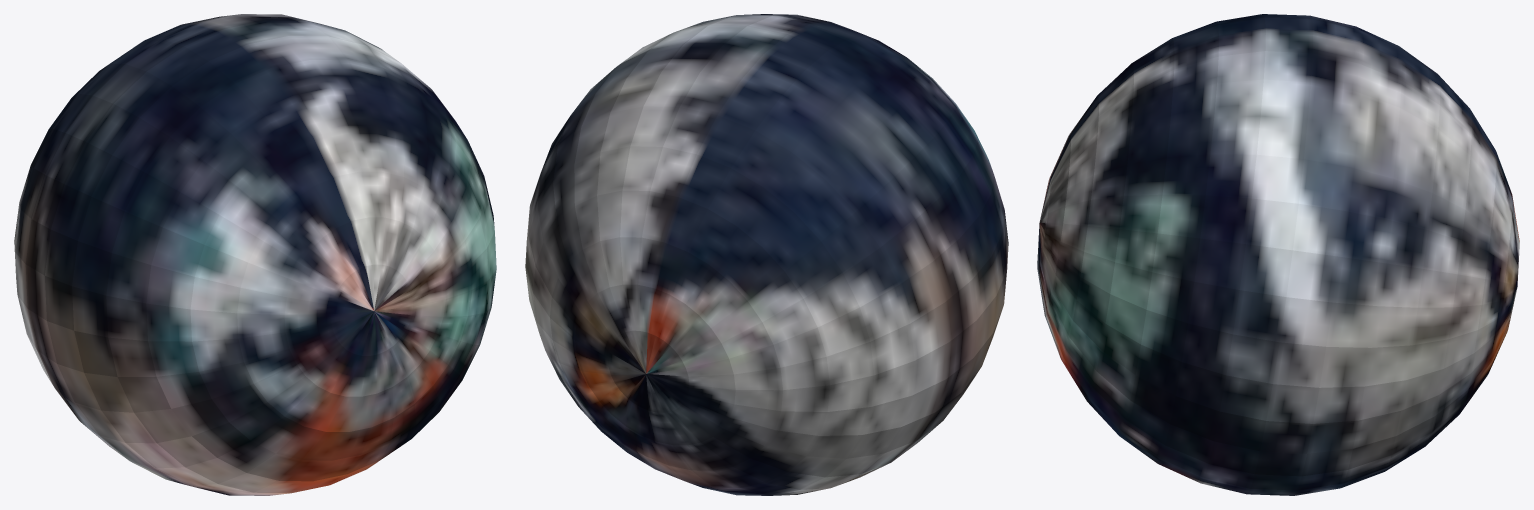
File: clothes1.fbx
3 views of the same model, side by side, from view 1: azimuth 30°, elevation 25°; view 2: azimuth 150°, elevation 25°; view 3: azimuth 270°, elevation 25° (orthographic).
Parts seen in each view (by area): view 1: Sphere; view 2: Sphere; view 3: Sphere.
Part boxes in pixels (x1,y1,x2,y2): Sphere: (14,14,496,495); Sphere: (525,14,1008,495); Sphere: (1037,14,1519,495).
Bounding box in the file's own units: 101 × 101 × 101.
1 material, 1 textured.
